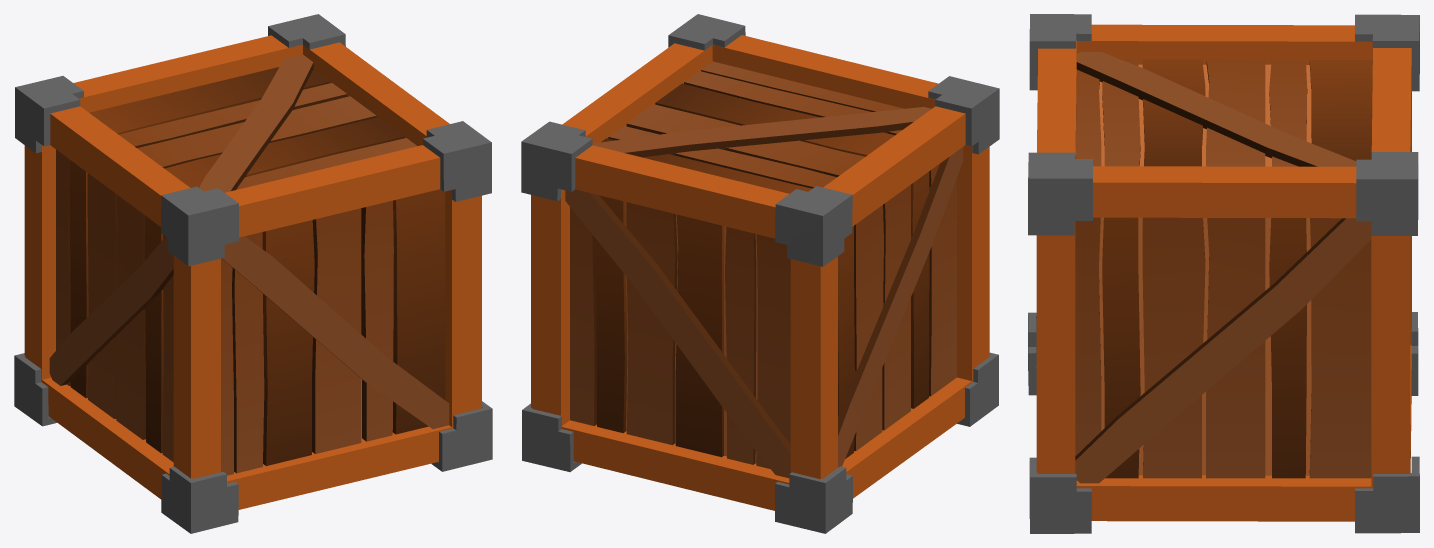
3 renders of one model, left to right at view 1: azimuth 30°, elevation 25°; view 2: azimuth 150°, elevation 25°; view 3: azimuth 270°, elevation 25°, orthographic. The views are drawn at different scales.
Visible parts, largest first — view 1: Box072.011; view 2: Box072.011; view 3: Box072.011.
Part boxes in pixels (x1=…): Box072.011: x1=14, y1=14, x2=492, y2=533; Box072.011: x1=521, y1=14, x2=999, y2=533; Box072.011: x1=1028, y1=14, x2=1419, y2=533.
Size of the model in its own units: 0.9836 by 0.983 by 0.9842.
